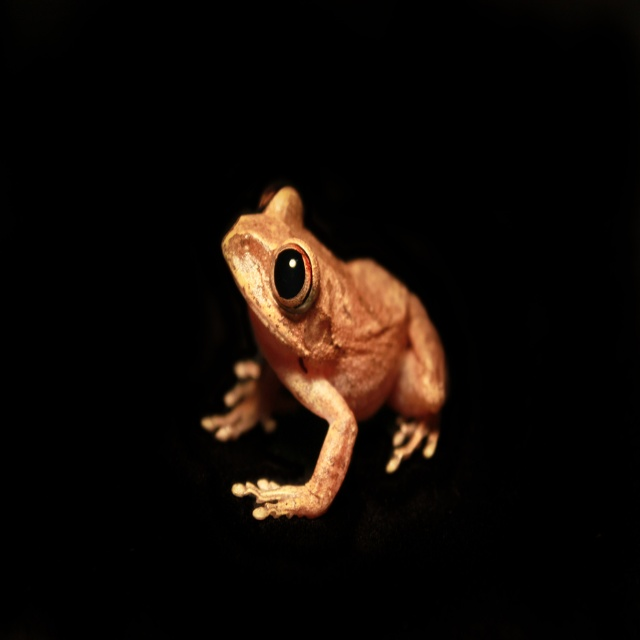Frog: (199, 182, 449, 521)
